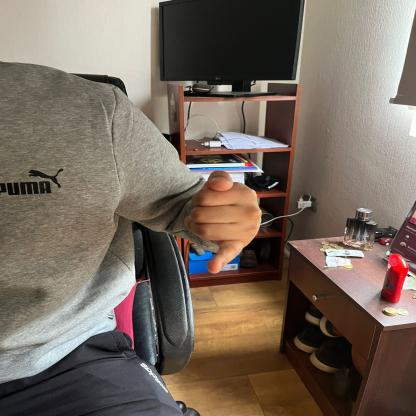Z: (186, 167, 266, 278)
